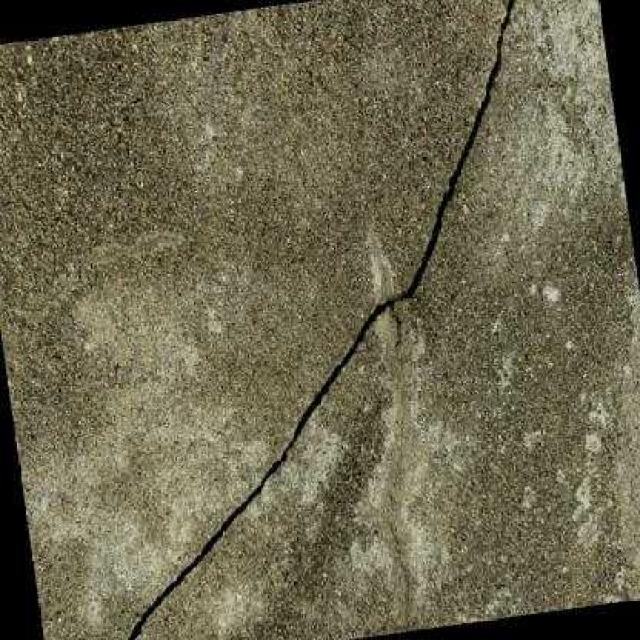D00: (121, 0, 513, 640)
